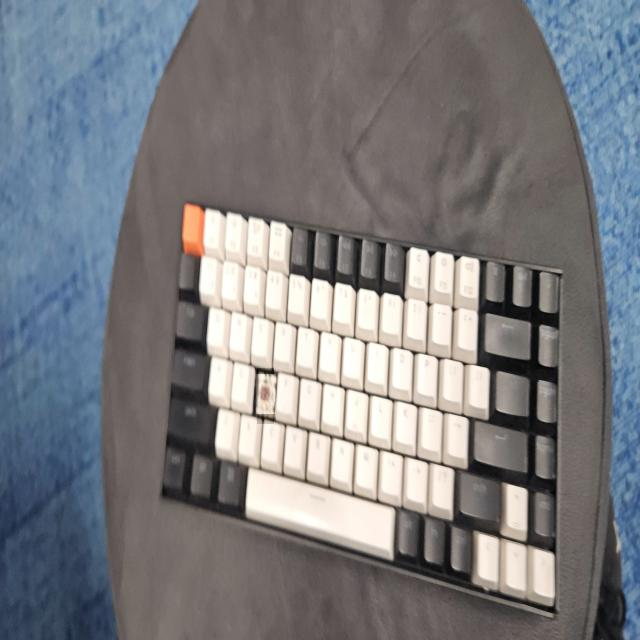C: (257, 368, 274, 424), (257, 371, 274, 424), (256, 374, 276, 414), (257, 381, 274, 419), (258, 373, 272, 416), (257, 375, 273, 412), (259, 374, 273, 415), (258, 381, 274, 411), (258, 378, 272, 410), (260, 383, 270, 409)
